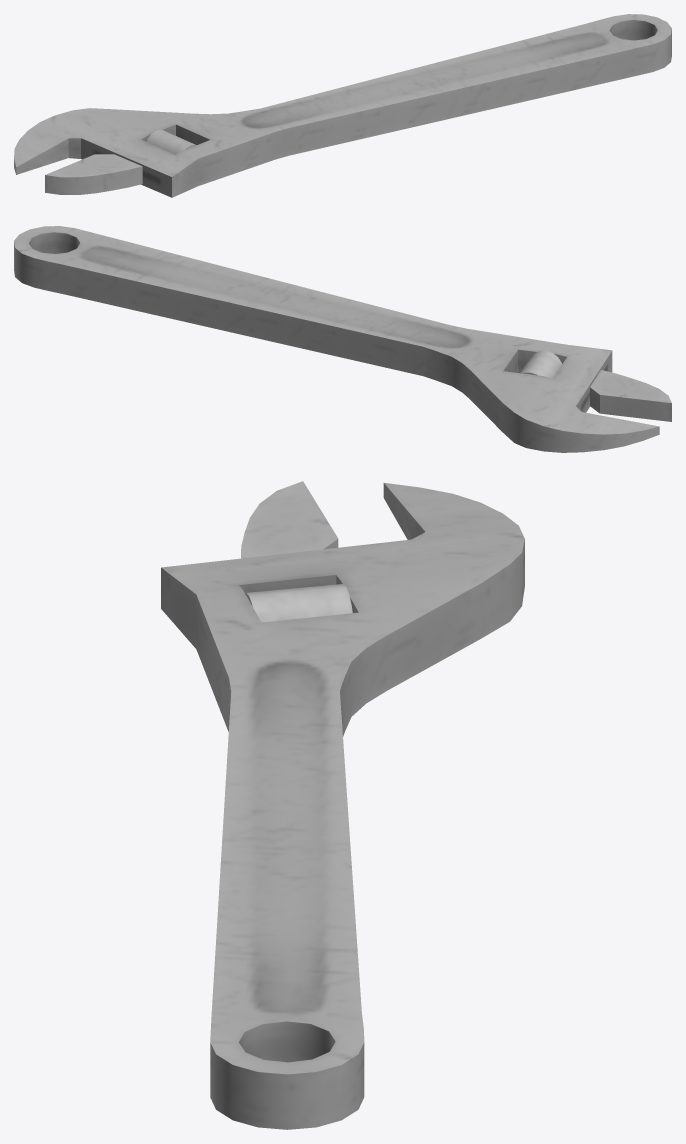
Rendered from SM_Wrench.fbx.
The picture shows the model from 3 angles, top to bottom: view 1: azimuth 30°, elevation 25°; view 2: azimuth 150°, elevation 25°; view 3: azimuth 270°, elevation 25°; orthographic projection. The views are drawn at different scales.
Visible parts, largest first — view 1: SM_Wrench_LOD0; view 2: SM_Wrench_LOD0; view 3: SM_Wrench_LOD0.
Boxes of the visible parts, x1,y1,x2,y2 form: SM_Wrench_LOD0: (14,14,671,197); SM_Wrench_LOD0: (14,226,671,452); SM_Wrench_LOD0: (161,481,524,1129).
Size of the model in its own units: 37.53 by 9.43 by 1.82.
